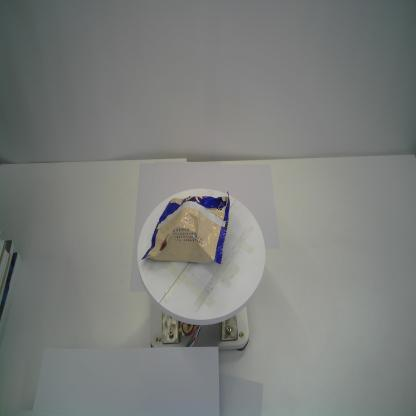Dessert: (141, 189, 231, 265)
